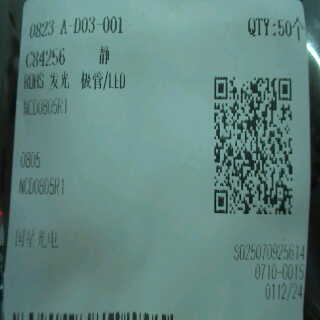LED: (50, 68, 134, 92)
